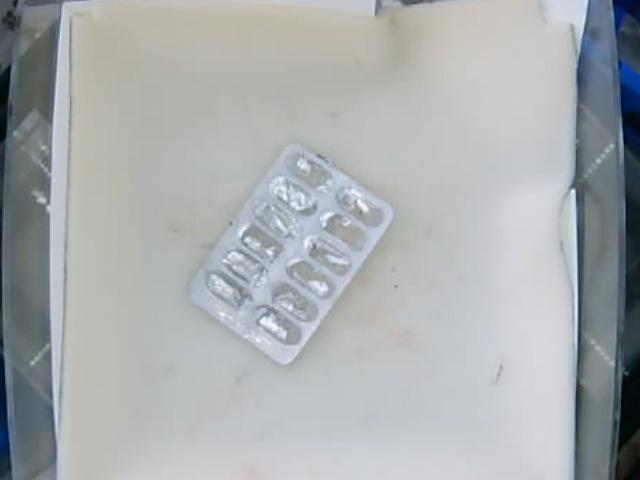Medicine: (194, 144, 394, 376)
